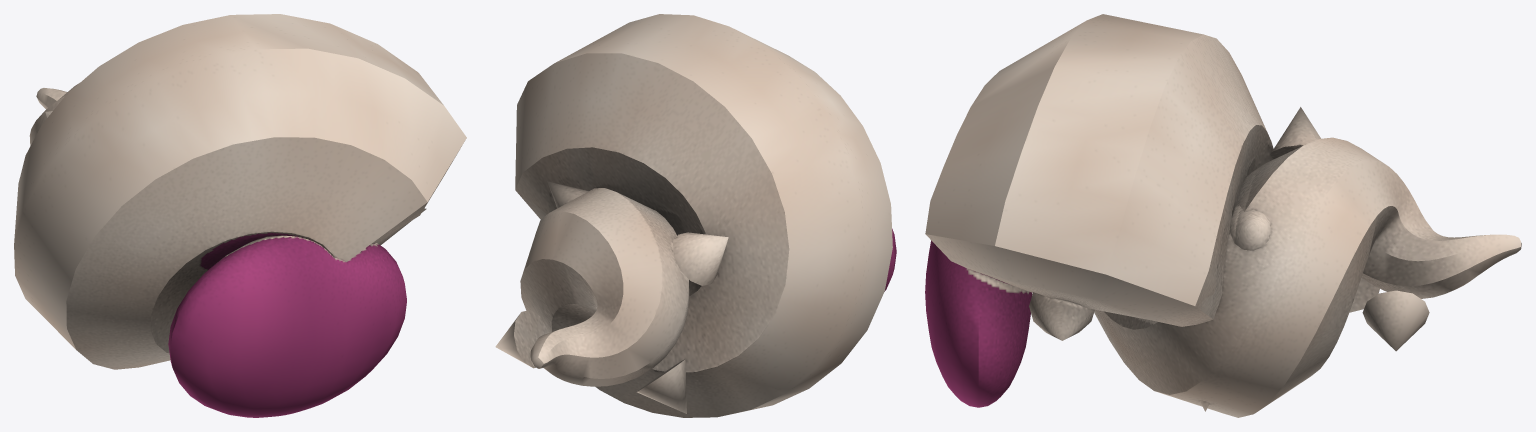
Rendered from costa_concha_grande.glb.
3 renders of one model, left to right at view 1: azimuth 30°, elevation 25°; view 2: azimuth 150°, elevation 25°; view 3: azimuth 270°, elevation 25°, orthographic. The views are drawn at different scales.
Parts seen in each view (by area): view 1: costa_concha_grande; view 2: costa_concha_grande; view 3: costa_concha_grande.
Part boxes in pixels (x1,y1,x2,y2): costa_concha_grande: [14, 14, 466, 417]; costa_concha_grande: [495, 14, 896, 417]; costa_concha_grande: [925, 14, 1521, 417].
Bounding box in the file's own units: 0.5836 × 0.4971 × 0.7125.
Materials: 1 (1 with a texture image).
